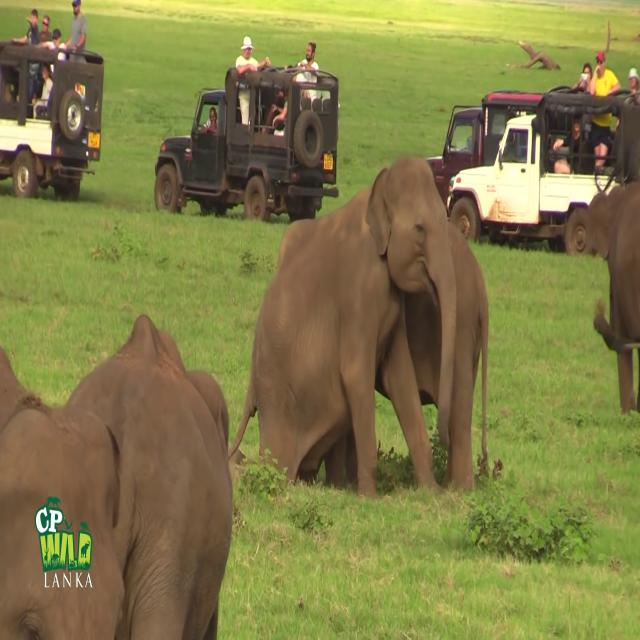Elephant: (227, 155, 457, 500), (63, 313, 233, 639)
person: (235, 36, 271, 126), (201, 107, 217, 134)
